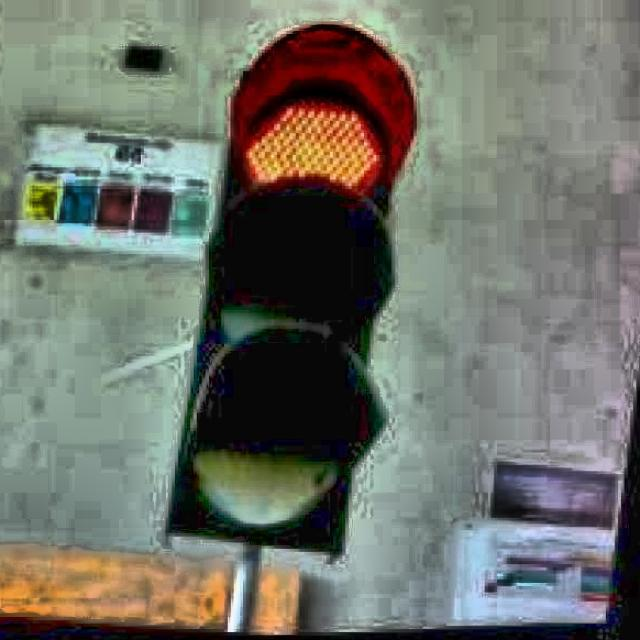red: (178, 26, 408, 571)
